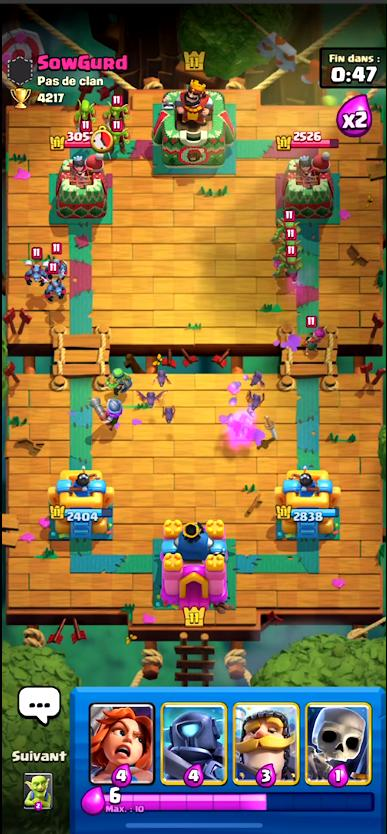archere: (300, 318, 323, 351)
bat: (136, 388, 168, 408), (246, 388, 265, 412), (155, 370, 170, 391), (164, 403, 177, 426), (248, 372, 264, 388)
gargouille: (43, 266, 65, 299), (27, 249, 47, 282), (47, 246, 67, 272)
gobelin: (105, 97, 127, 127), (110, 122, 130, 152), (76, 98, 95, 123)
gobelin_lances: (99, 363, 131, 395), (278, 244, 304, 279), (277, 212, 301, 235), (282, 230, 301, 249)
mousquetaire: (91, 393, 123, 428)
